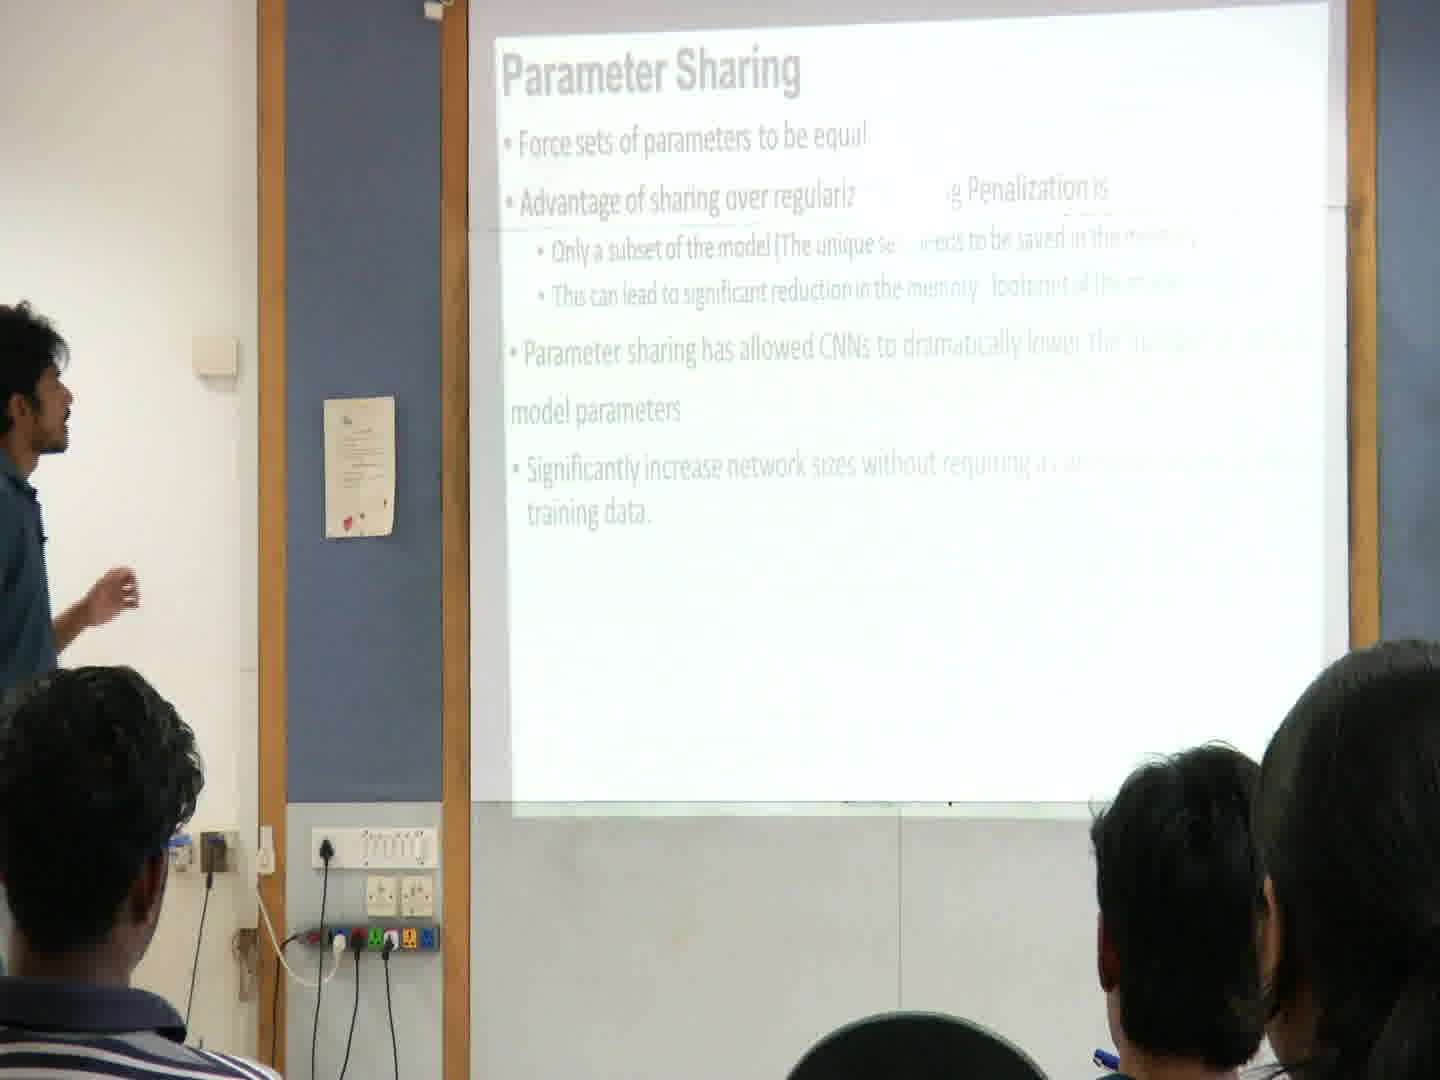slide: (495, 6, 1325, 819)
